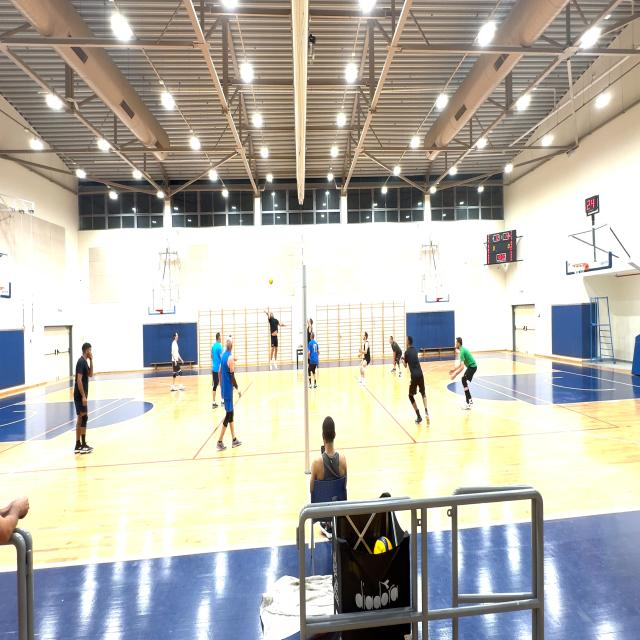volleyball: (373, 536, 392, 555), (269, 278, 273, 284)
